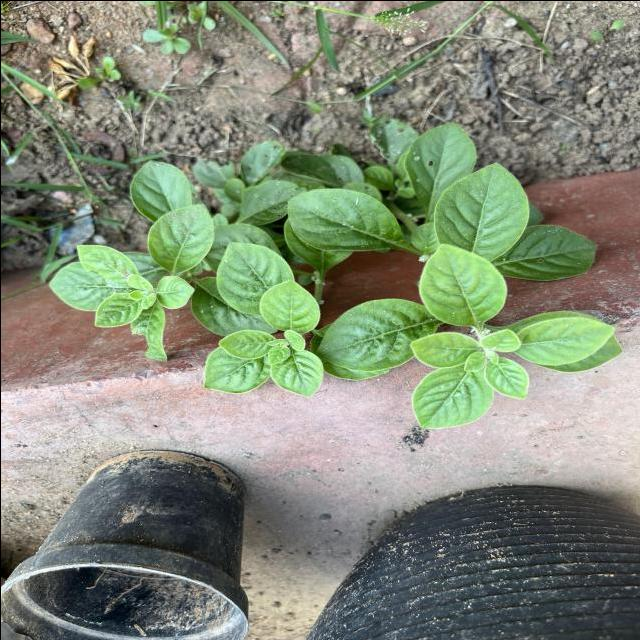Aerva lanata: (430, 158, 532, 261), (312, 294, 444, 372), (283, 185, 414, 253), (416, 240, 510, 327), (212, 239, 295, 315), (510, 314, 617, 367), (144, 200, 217, 276), (408, 366, 494, 430), (257, 278, 322, 335), (200, 344, 272, 394), (266, 344, 326, 400), (481, 355, 530, 401), (216, 326, 276, 362), (92, 290, 144, 330), (154, 272, 197, 310)
